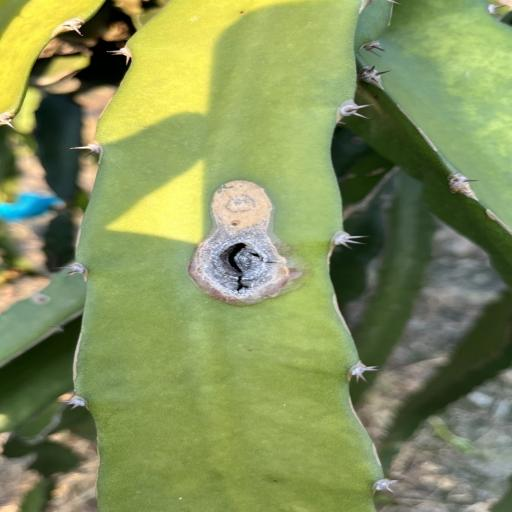stemcanker: (189, 181, 314, 310), (20, 292, 54, 311), (226, 6, 254, 20), (270, 474, 301, 486), (220, 10, 253, 20), (32, 294, 56, 306)
